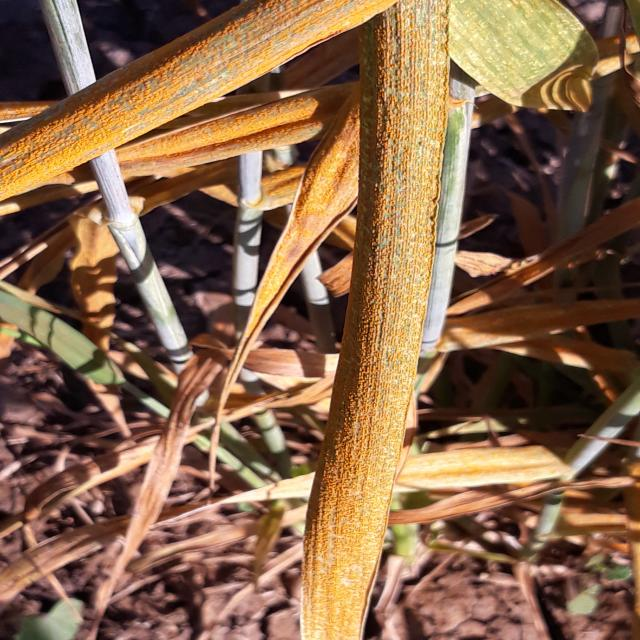yellow_rust: (2, 9, 631, 636)
